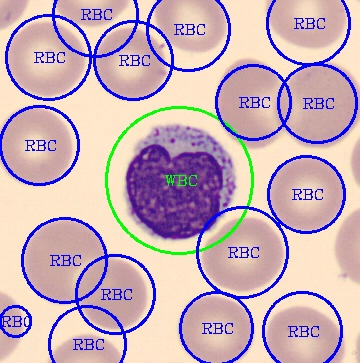RBC: (22, 214, 108, 306), (274, 59, 359, 149), (199, 215, 287, 293), (214, 56, 285, 151), (6, 18, 88, 98), (0, 104, 76, 188), (267, 154, 345, 232), (174, 292, 255, 362), (93, 26, 167, 102), (75, 255, 149, 331), (264, 303, 347, 361), (261, 0, 349, 50), (152, 0, 229, 53)
WBC: (119, 120, 238, 242)
